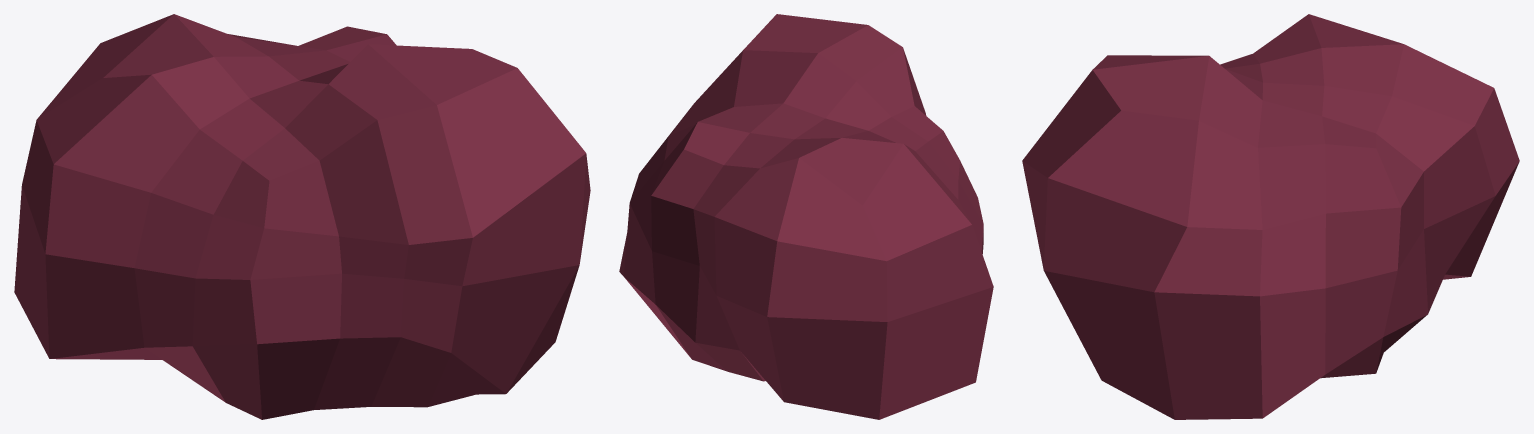
The model's file is Mo_BushForest01.fbx.
3 views of the same model, side by side, from view 1: azimuth 30°, elevation 25°; view 2: azimuth 150°, elevation 25°; view 3: azimuth 270°, elevation 25° (orthographic). The views are drawn at different scales.
Parts seen in each view (by area): view 1: Cube; view 2: Cube; view 3: Cube.
Part boxes in pixels (x1=…): Cube: x1=14, y1=14, x2=590, y2=419; Cube: x1=619, y1=14, x2=993, y2=419; Cube: x1=1022, y1=14, x2=1519, y2=419.
Size of the model in its own units: 84.99 by 54.4 by 84.37.
